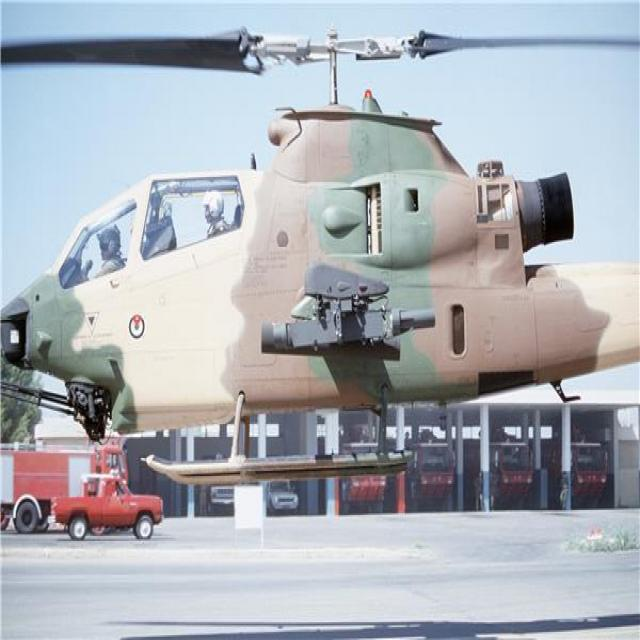MIL_HELO: (1, 12, 634, 504)
